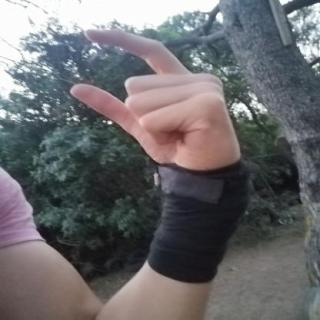DELL: (58, 24, 252, 179)
